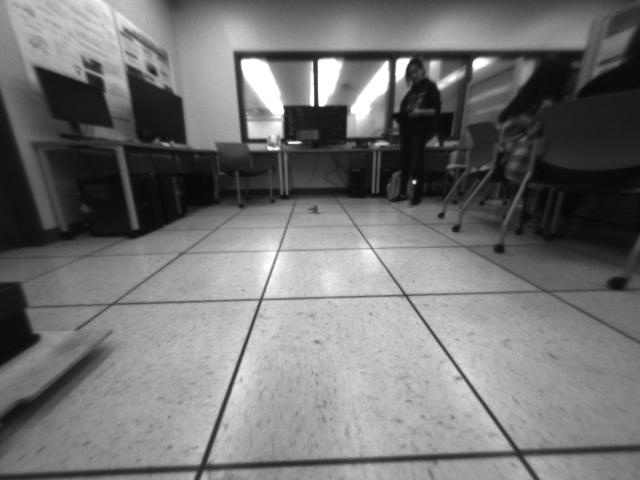X: (309, 205, 323, 215)
